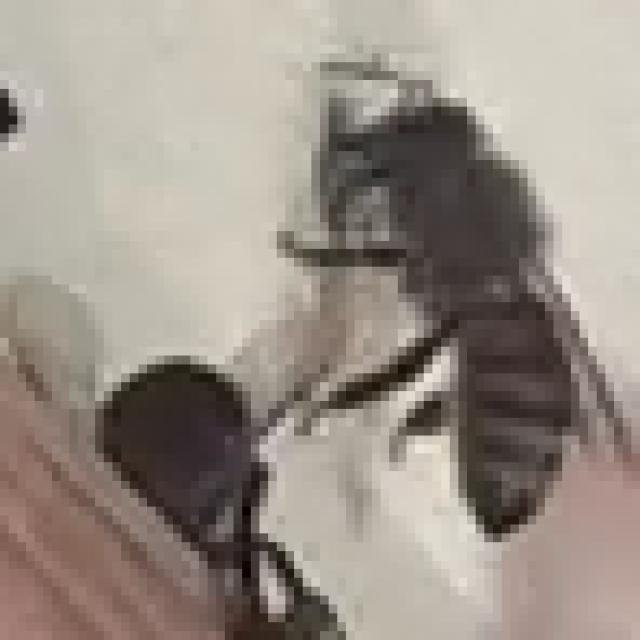honeybee: (289, 72, 624, 540)
